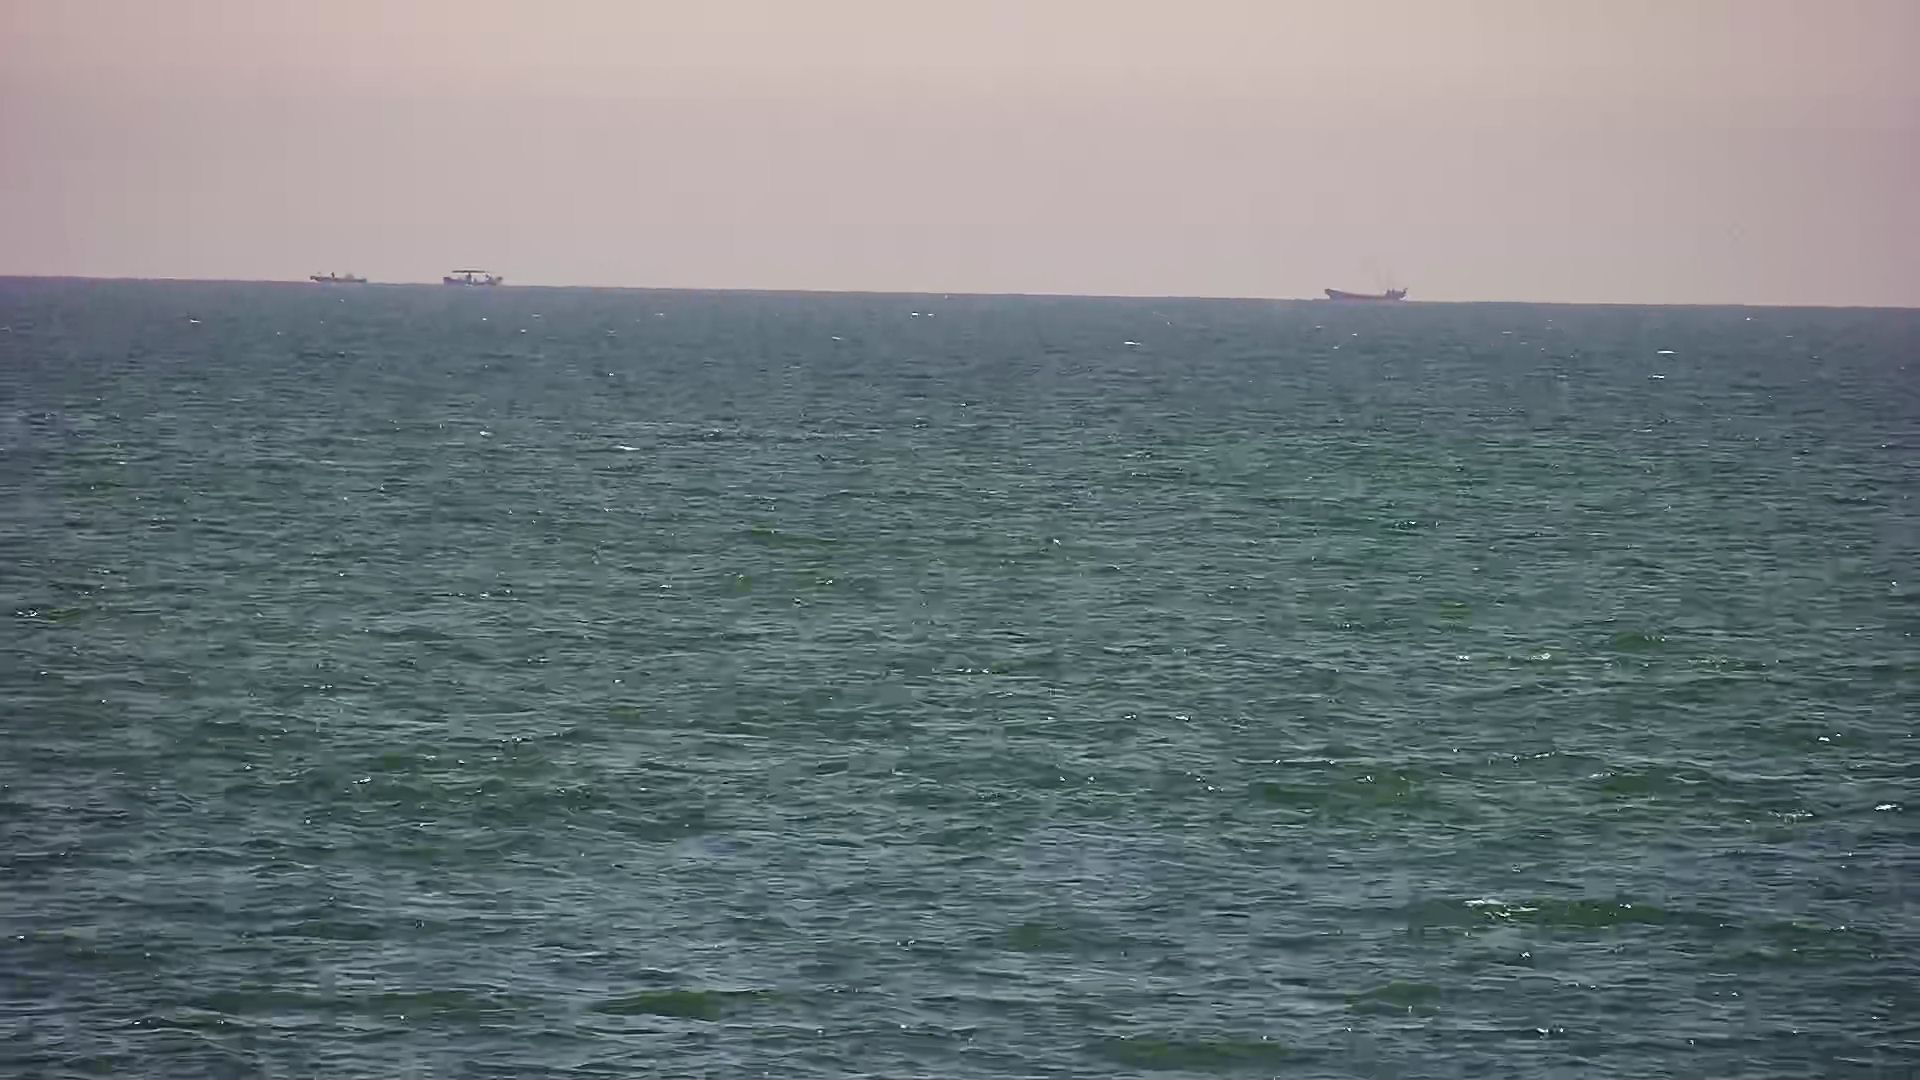platform: (433, 262, 516, 294)
ship: (1316, 278, 1416, 305), (293, 262, 377, 293)
